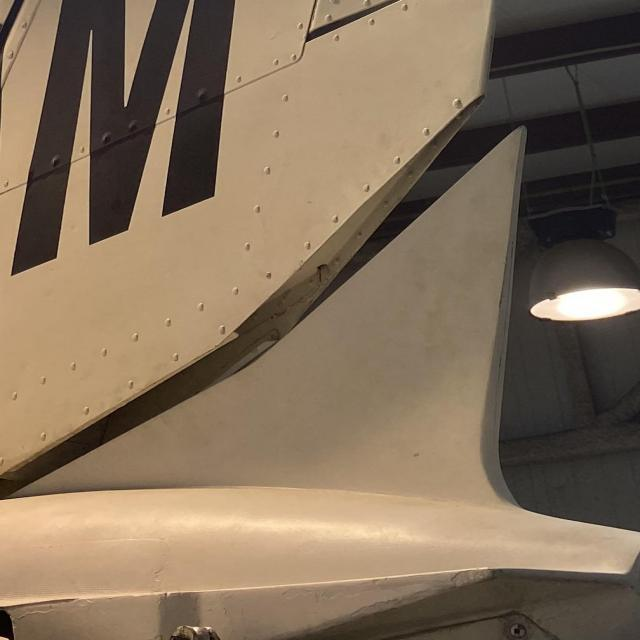Paint-off: (275, 575, 448, 607), (338, 591, 434, 625), (7, 596, 103, 625), (141, 545, 178, 586), (452, 568, 498, 586)
